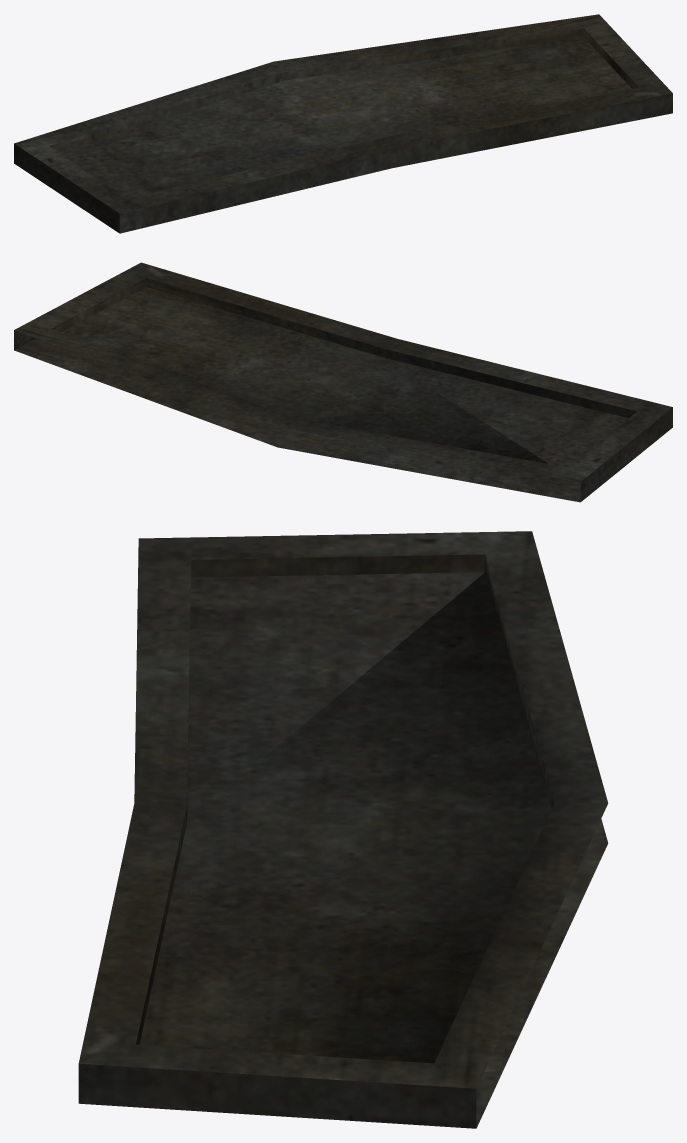
File: elevatorCore.fbx
3 views of the same model, one above another, from view 1: azimuth 30°, elevation 25°; view 2: azimuth 150°, elevation 25°; view 3: azimuth 270°, elevation 25° (orthographic). The views are drawn at different scales.
Visible parts, largest first — view 1: corElevator; view 2: corElevator; view 3: corElevator.
Part boxes in pixels (x1,y1,x2,y2): corElevator: (14, 14, 672, 233); corElevator: (14, 262, 672, 502); corElevator: (78, 531, 608, 1128).
Size of the model in its own units: 2596 by 86.87 by 1042.
Materials: 1 (1 with a texture image).
